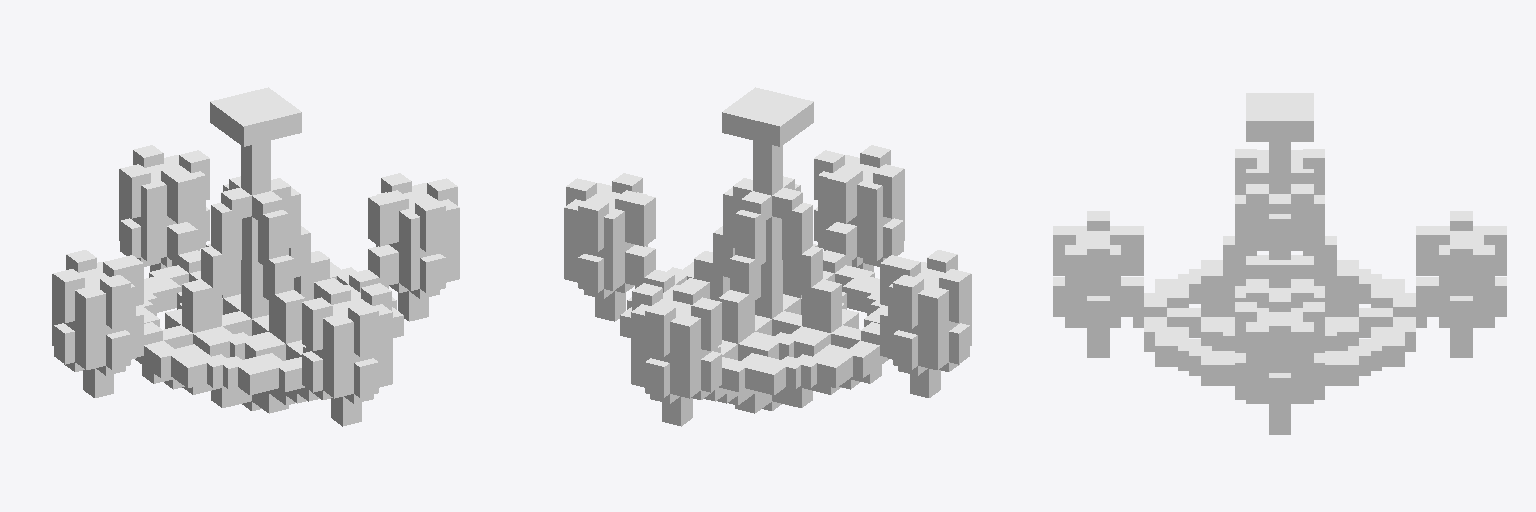
File: LamparaFixed-0-LamparaTecho.obj
3 renders of one model, left to right at view 1: azimuth 30°, elevation 25°; view 2: azimuth 150°, elevation 25°; view 3: azimuth 270°, elevation 25°, orthographic.
Parts seen in each view (by area): view 1: LamparaTecho; view 2: LamparaTecho; view 3: LamparaTecho.
Part boxes in pixels (x1,y1,x2,y2): LamparaTecho: (52,87,459,426); LamparaTecho: (564,87,971,426); LamparaTecho: (1053,93,1506,434).
Size of the model in its own units: 4 by 2.9 by 4.